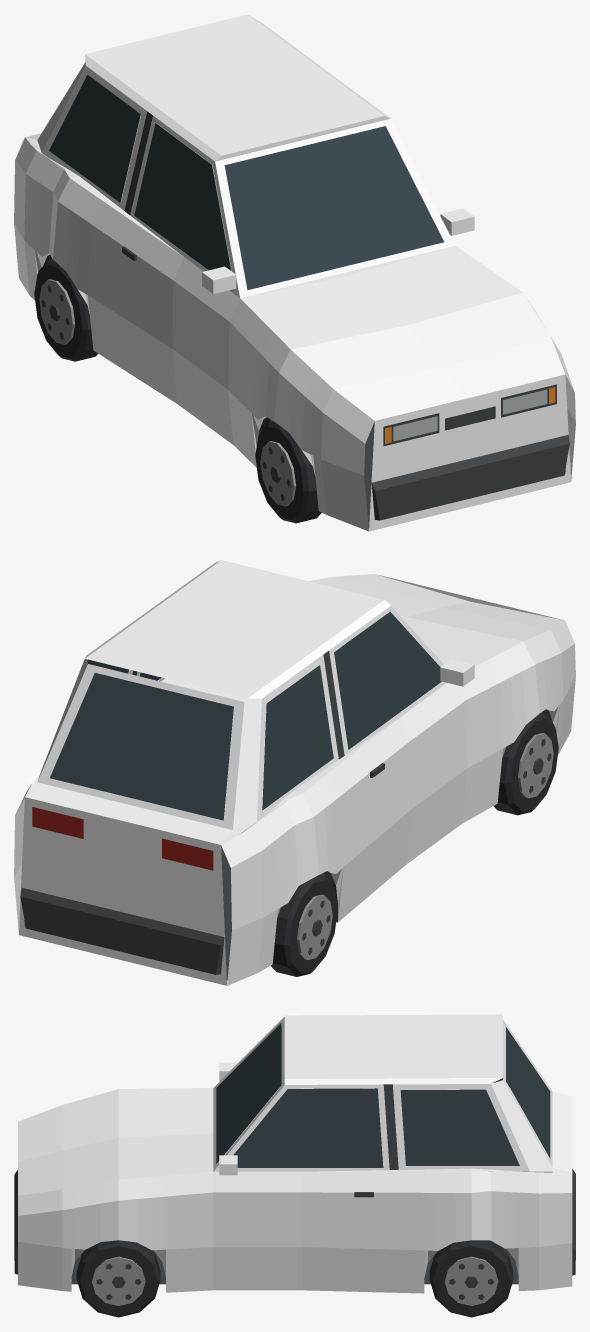
File: ottavo_airone.glb
The picture shows the model from 3 angles, top to bottom: view 1: azimuth 30°, elevation 25°; view 2: azimuth 150°, elevation 25°; view 3: azimuth 270°, elevation 25°; orthographic projection. The views are drawn at different scales.
Visible parts, largest first — view 1: ottavo_airone; view 2: ottavo_airone; view 3: ottavo_airone.
Part boxes in pixels (left/top/right/bottom): ottavo_airone: left=14, top=14, right=575, bottom=531; ottavo_airone: left=14, top=560, right=575, bottom=985; ottavo_airone: left=14, top=1014, right=575, bottom=1317.
Size of the model in its own units: 1.62 by 1.63 by 3.71.
8 materials, 1 textured.
